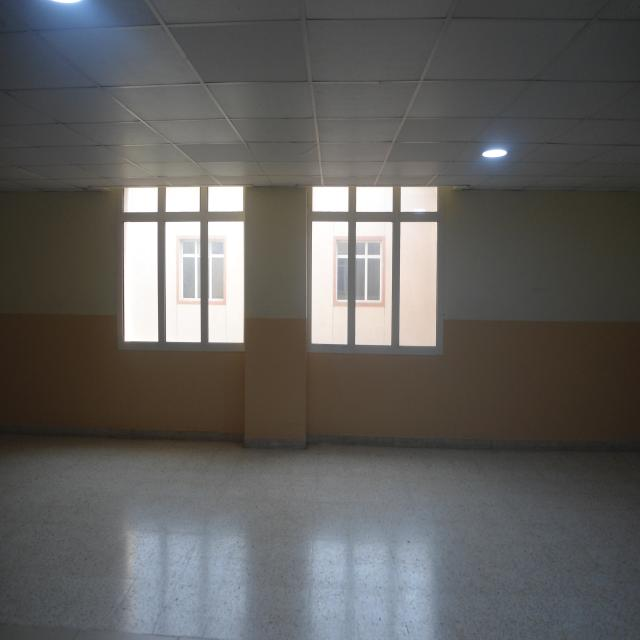light: (475, 141, 511, 162), (44, 0, 87, 11)
wall: (0, 188, 640, 462)
window: (303, 179, 449, 360), (111, 173, 252, 348)
